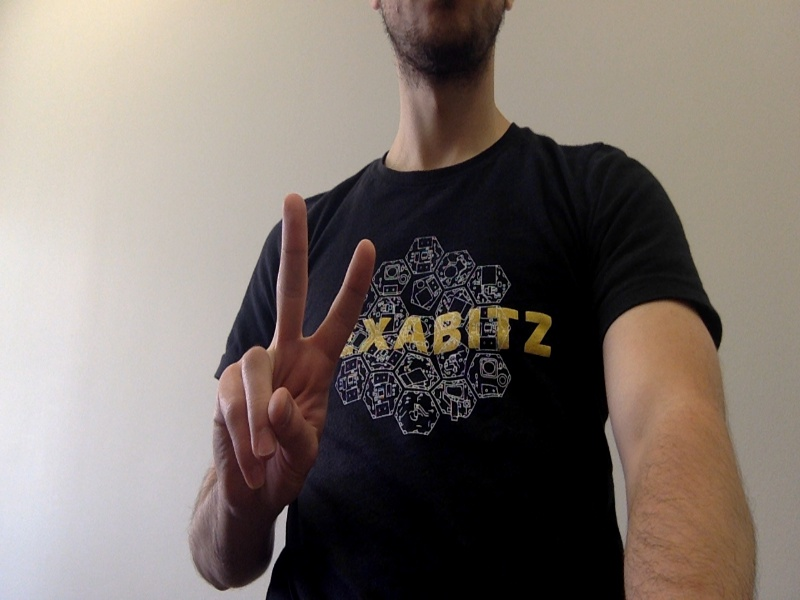2-hand: (223, 194, 374, 497)
